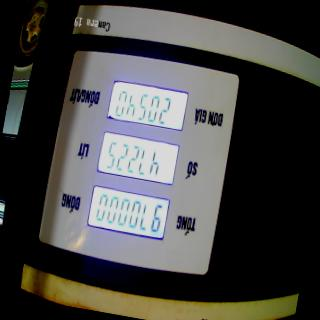screen: (84, 75, 192, 246)
